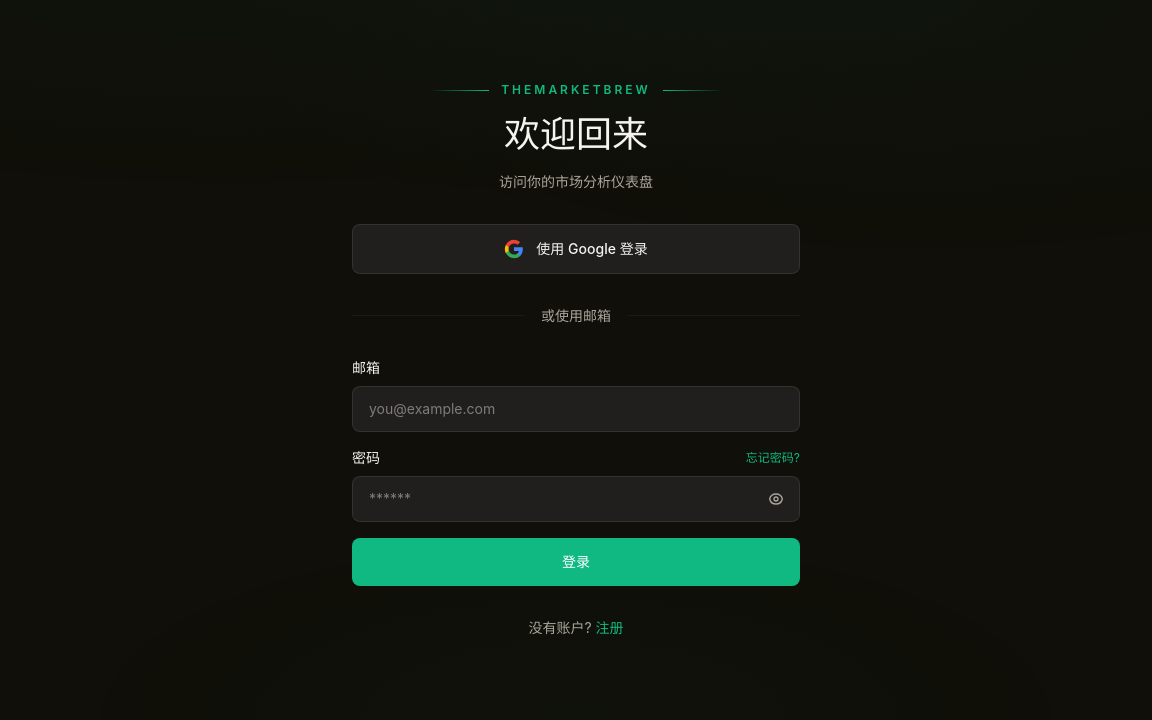
Test case: /login page › translates sign-in errors returned by AuthContext
The image size is (1152, 720).
In the field labelled "邮箱": (576, 409) [352, 386, 800, 432], type "bad@example.com"
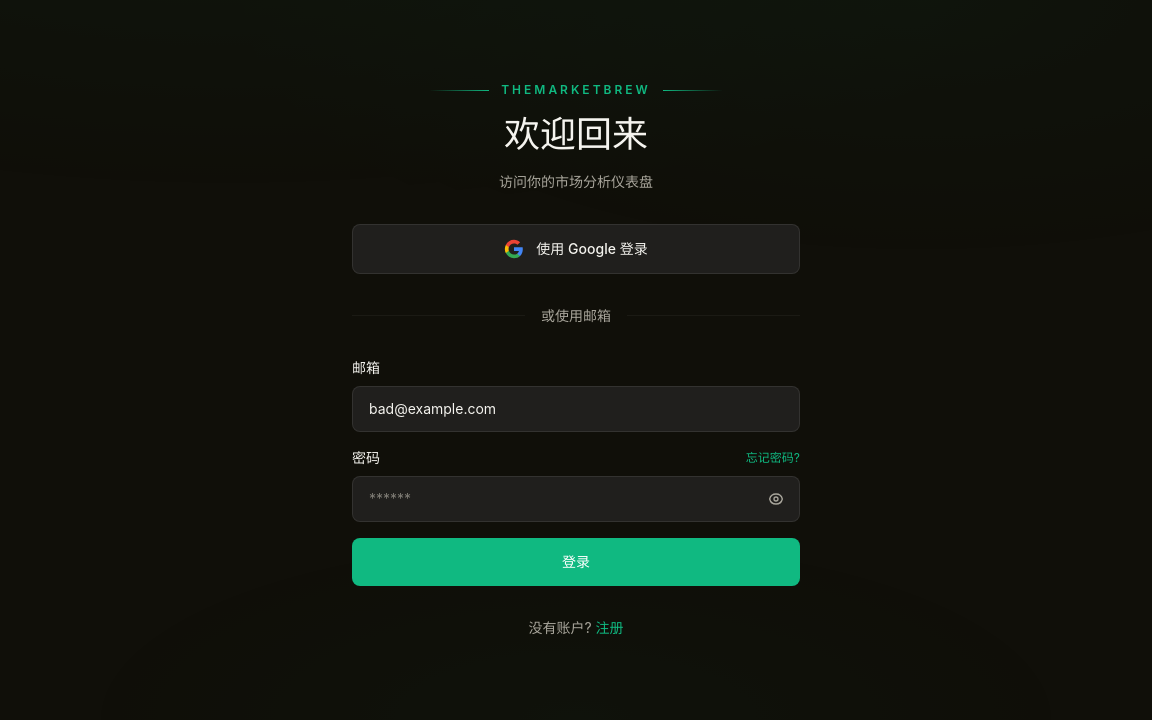
In the password field labelled "密码": (576, 499) [352, 476, 800, 522], type "wrong-password"
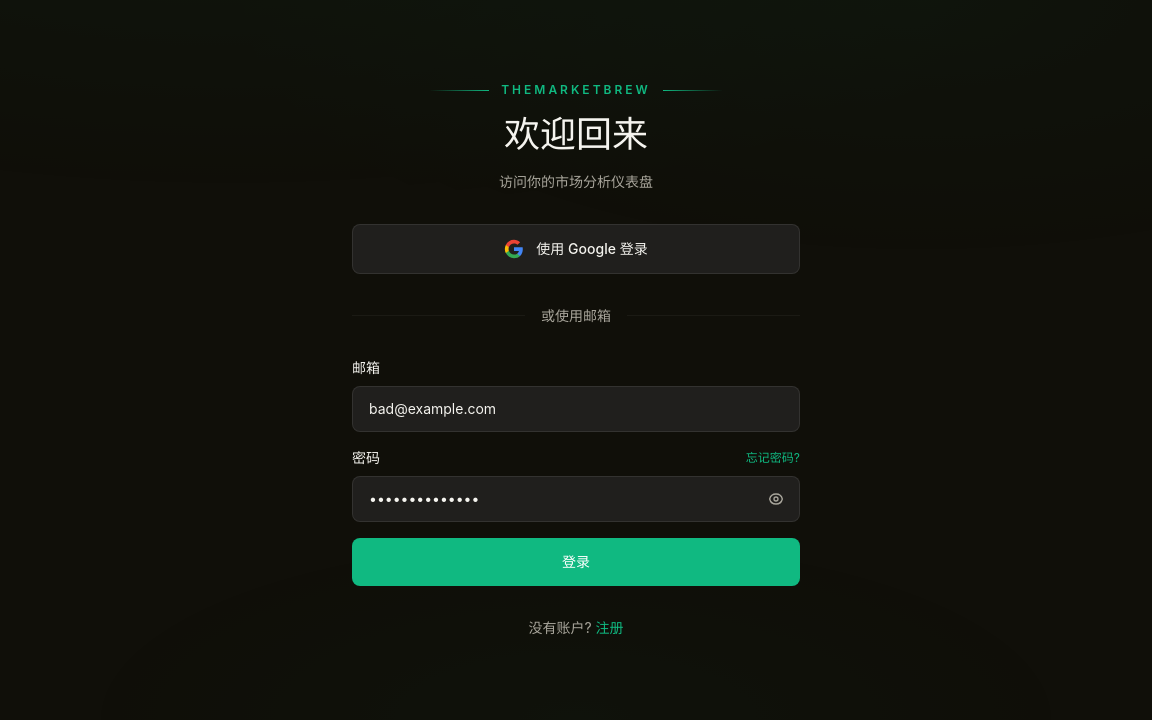
Click the button "登录": (576, 562) [352, 538, 800, 586]
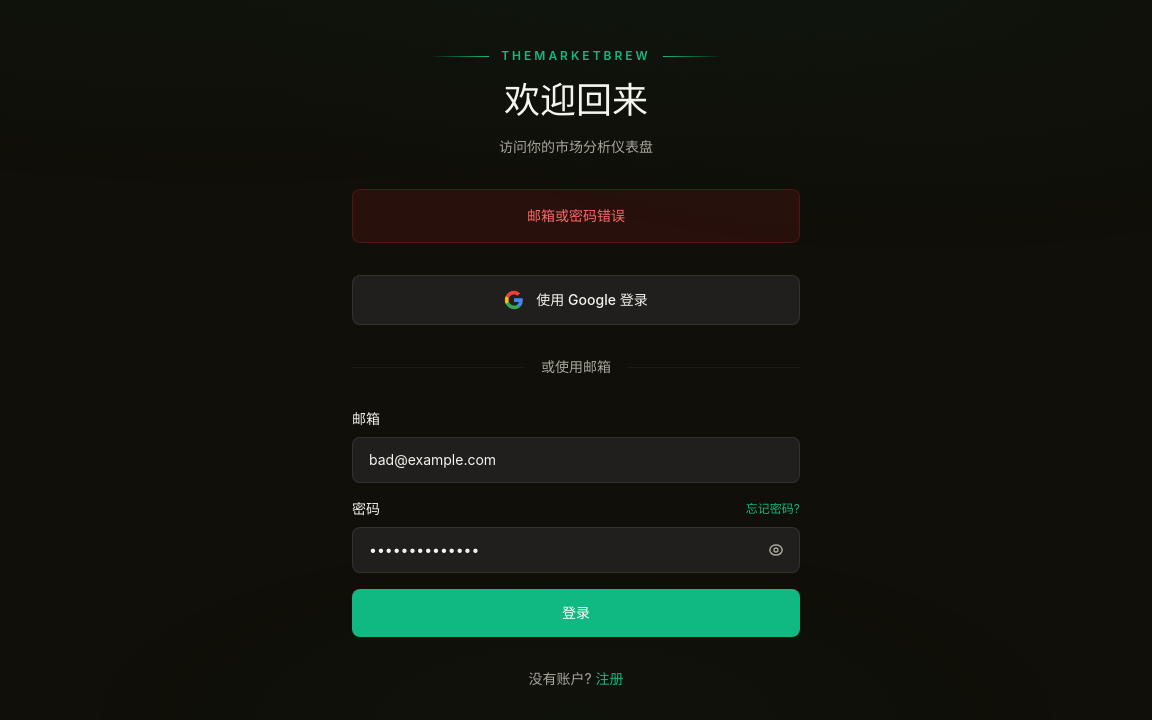
Expected: the text "邮箱或密码错误" is shown, [527, 207, 625, 224]
